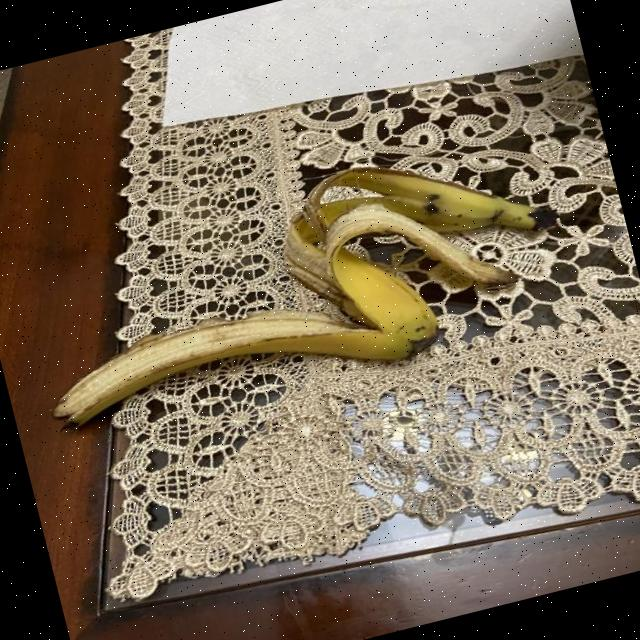banana-peel: (10, 123, 566, 446)
